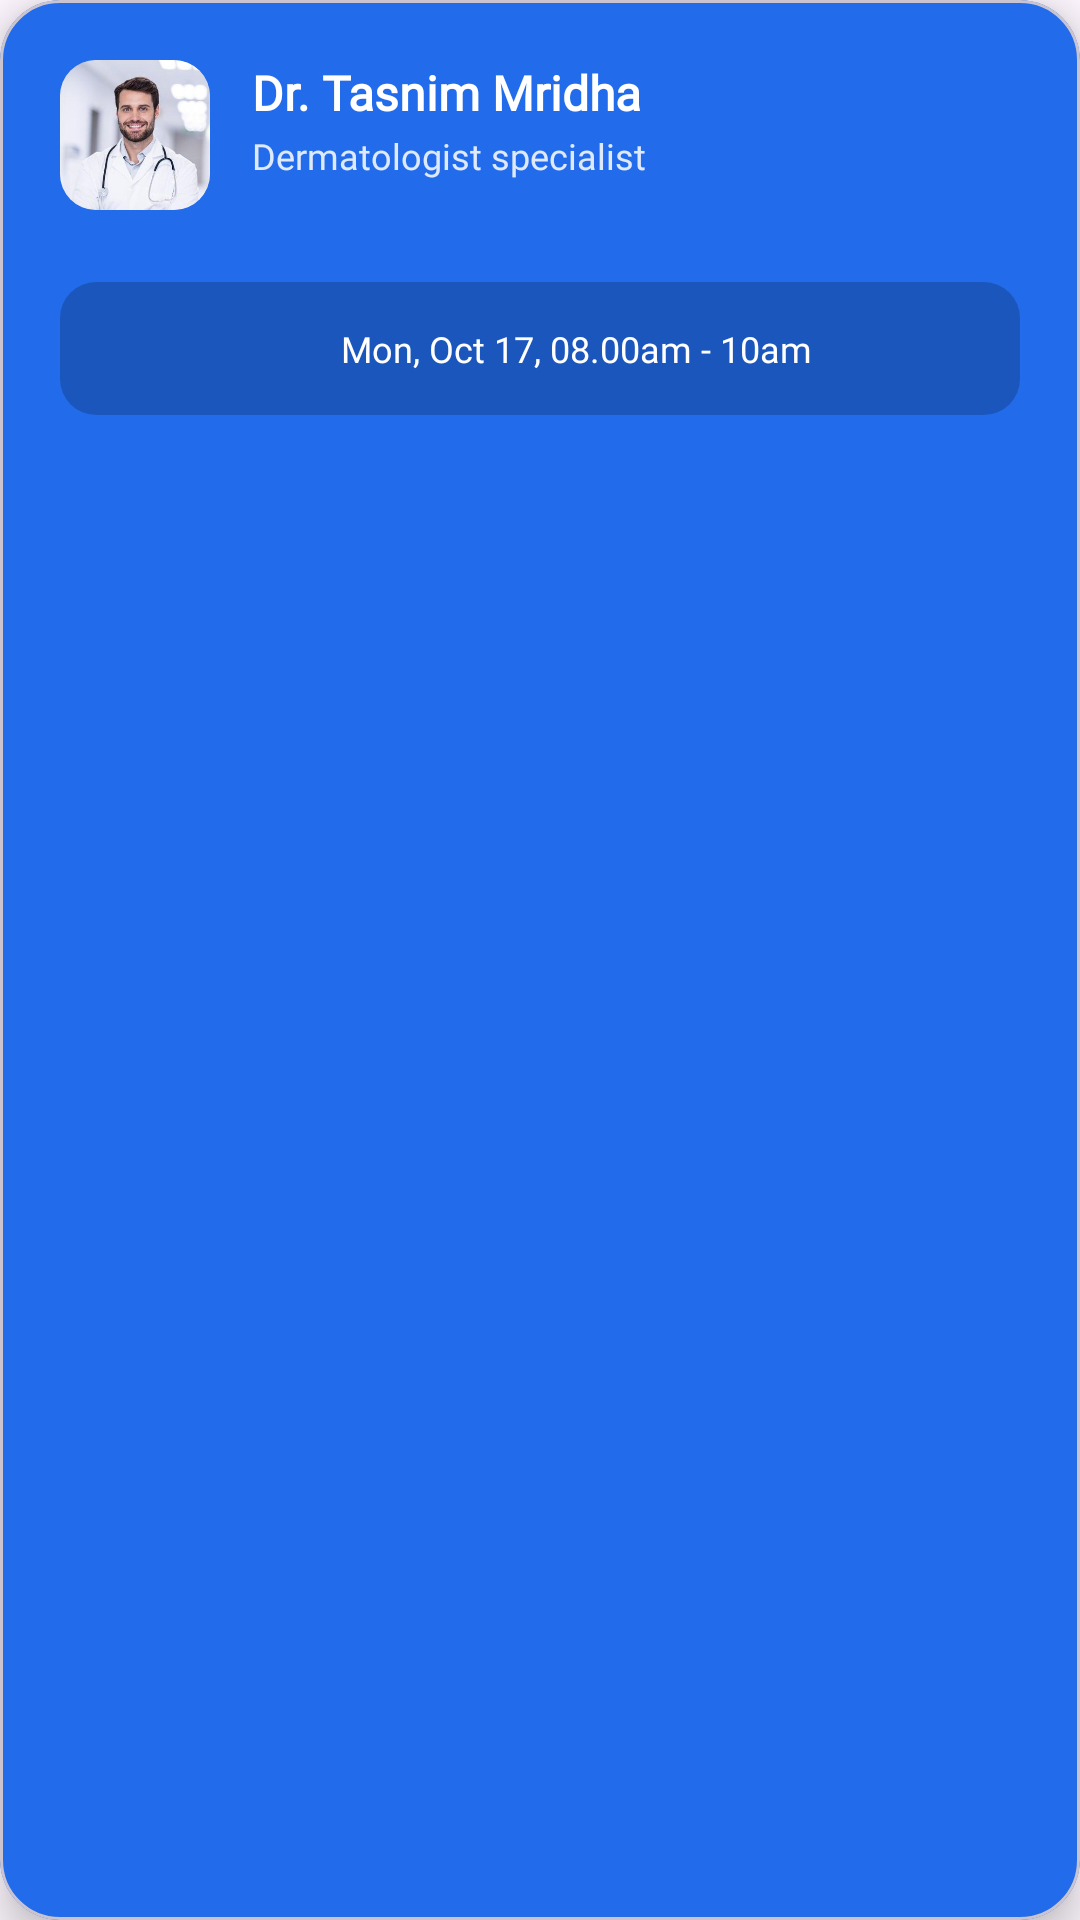

Screen size 1080*1920. Icon name, then its box in pixels as (x1, y1, x2, y2):
doctor: (60, 60, 210, 210)
